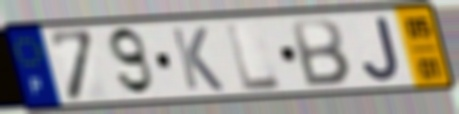7: (51, 26, 95, 103)
9: (106, 26, 157, 100)
B: (288, 16, 353, 88)
J: (360, 15, 403, 84)
K: (168, 25, 227, 93)
L: (222, 19, 285, 94)
